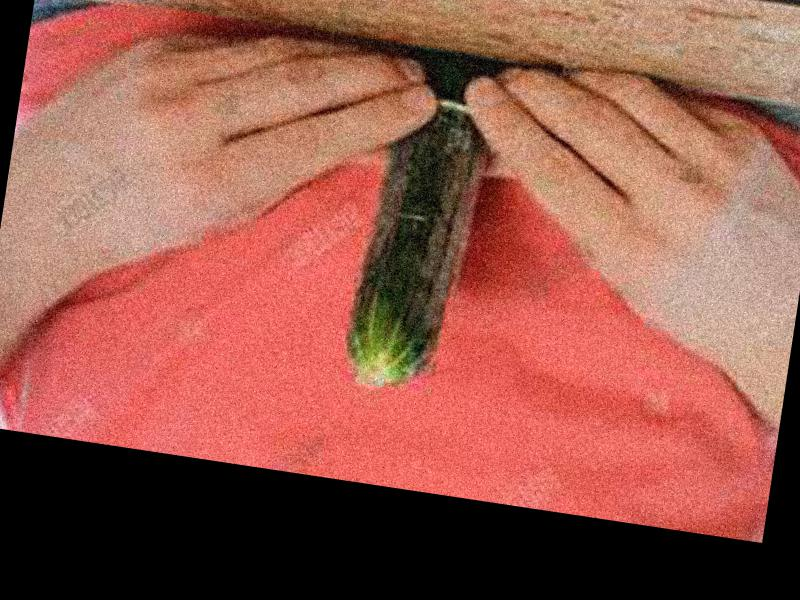Cucumber: (339, 46, 499, 396)
